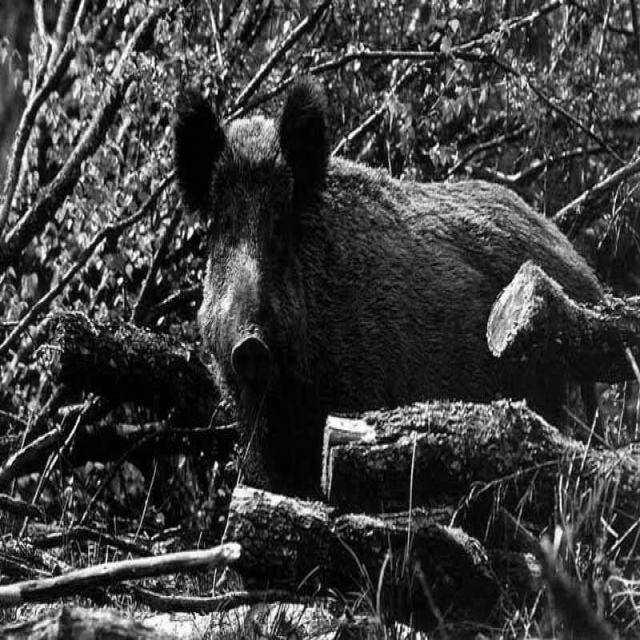boar: (174, 77, 601, 493)
